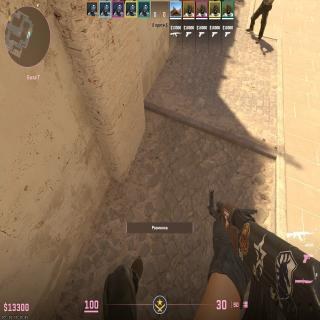T-Body: (253, 0, 274, 40)
